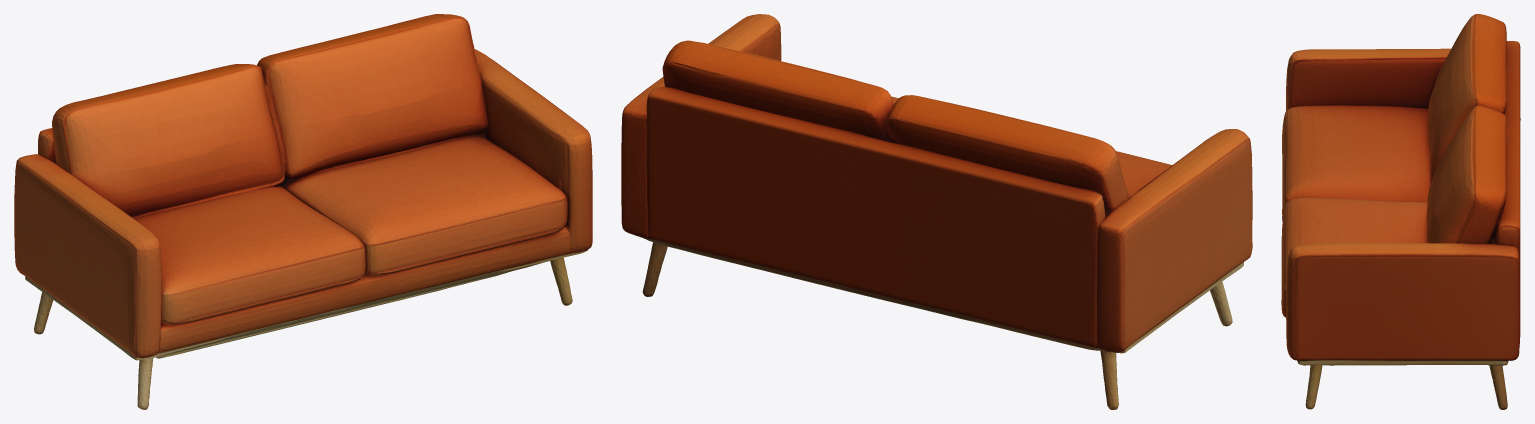
File: sofa.glb
3 renders of one model, left to right at view 1: azimuth 30°, elevation 25°; view 2: azimuth 150°, elevation 25°; view 3: azimuth 270°, elevation 25°, orthographic. The views are drawn at different scales.
Parts seen in each view (by area): view 1: world; view 2: world; view 3: world.
Part boxes in pixels (x1,y1,x2,y2): world: (14, 14, 592, 409); world: (621, 14, 1252, 409); world: (1281, 14, 1520, 409).
Size of the model in its own units: 1 by 0.4769 by 0.4841.
1 material, 1 textured.
